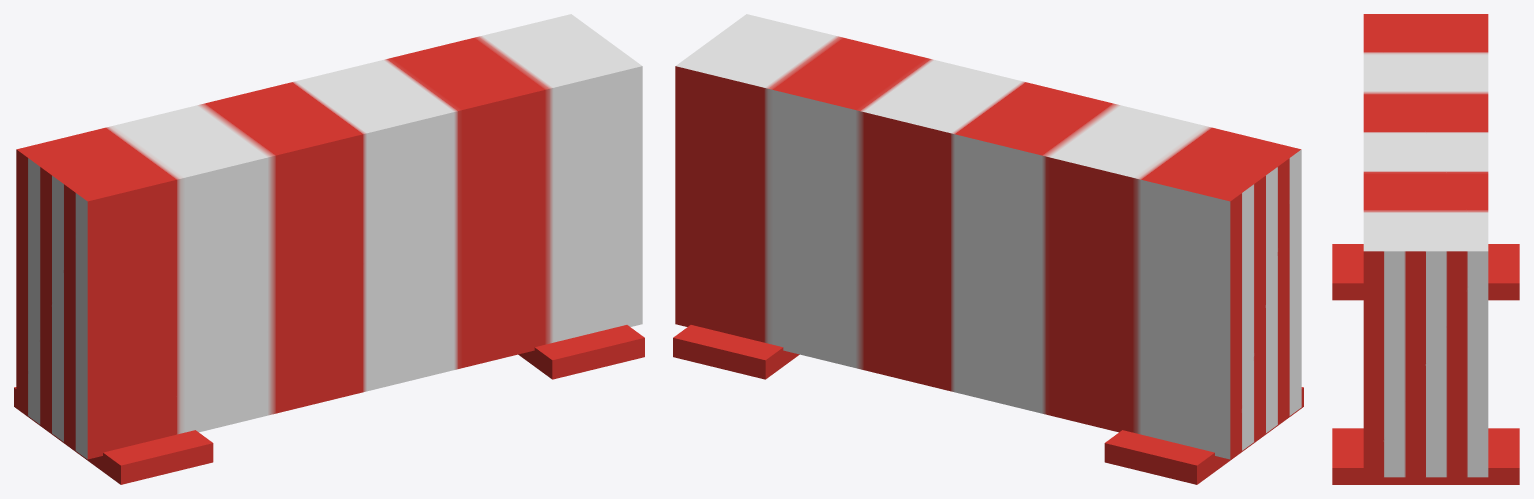
The model's file is PlasticBarrier.glb.
3 renders of one model, left to right at view 1: azimuth 30°, elevation 25°; view 2: azimuth 150°, elevation 25°; view 3: azimuth 270°, elevation 25°, orthographic. The views are drawn at different scales.
Visible parts, largest first — view 1: Barrier, Foot (×2); view 2: Barrier, Foot (×2); view 3: Barrier, Foot (×2).
Part boxes in pixels (x1,y1,x2,y2): Barrier: [16, 14, 642, 459]; Foot (×2): [14, 325, 644, 484]; Barrier: [675, 14, 1301, 459]; Foot (×2): [673, 325, 1303, 484]; Barrier: [1363, 14, 1488, 477]; Foot (×2): [1332, 244, 1519, 484].
Bounding box in the file's own units: 1.8 × 0.85 × 0.6.
3 materials, 1 textured.
